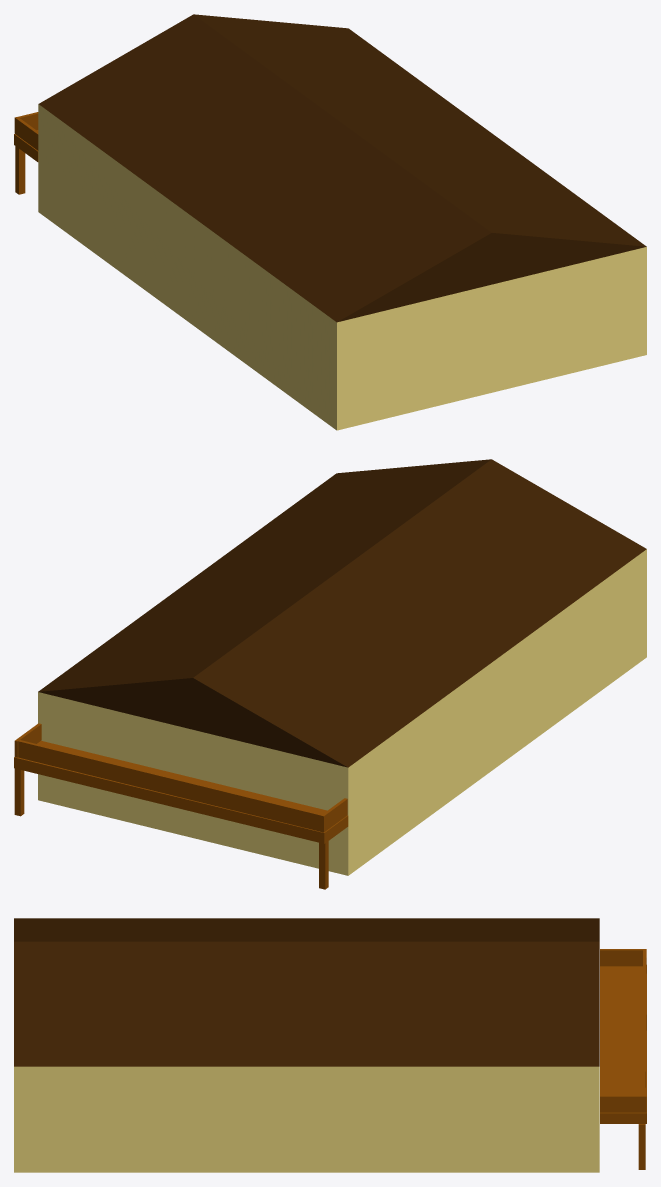
File: Zelt_hellbraun.fbx
3 views of the same model, one above another, from view 1: azimuth 30°, elevation 25°; view 2: azimuth 150°, elevation 25°; view 3: azimuth 270°, elevation 25° (orthographic). The views are drawn at different scales.
Parts seen in each view (by area): view 1: Cube.001; view 2: Cube.001, Cube.005, Cube.002; view 3: Cube.001, Cube.002, Cube.004, Cube.003, Cube.005.
Boxes of the visible parts, bbox=[...] form: Cube.001: bbox=[38, 14, 646, 430]; Cube.001: bbox=[38, 459, 646, 875]; Cube.005: bbox=[18, 740, 322, 831]; Cube.002: bbox=[14, 740, 348, 843]; Cube.001: bbox=[14, 918, 599, 1172]; Cube.002: bbox=[600, 965, 646, 1123]; Cube.004: bbox=[600, 1095, 646, 1112]; Cube.003: bbox=[600, 949, 646, 966]; Cube.005: bbox=[642, 950, 646, 1095].
Size of the model in its own units: 3003 by 1531 by 5405.
